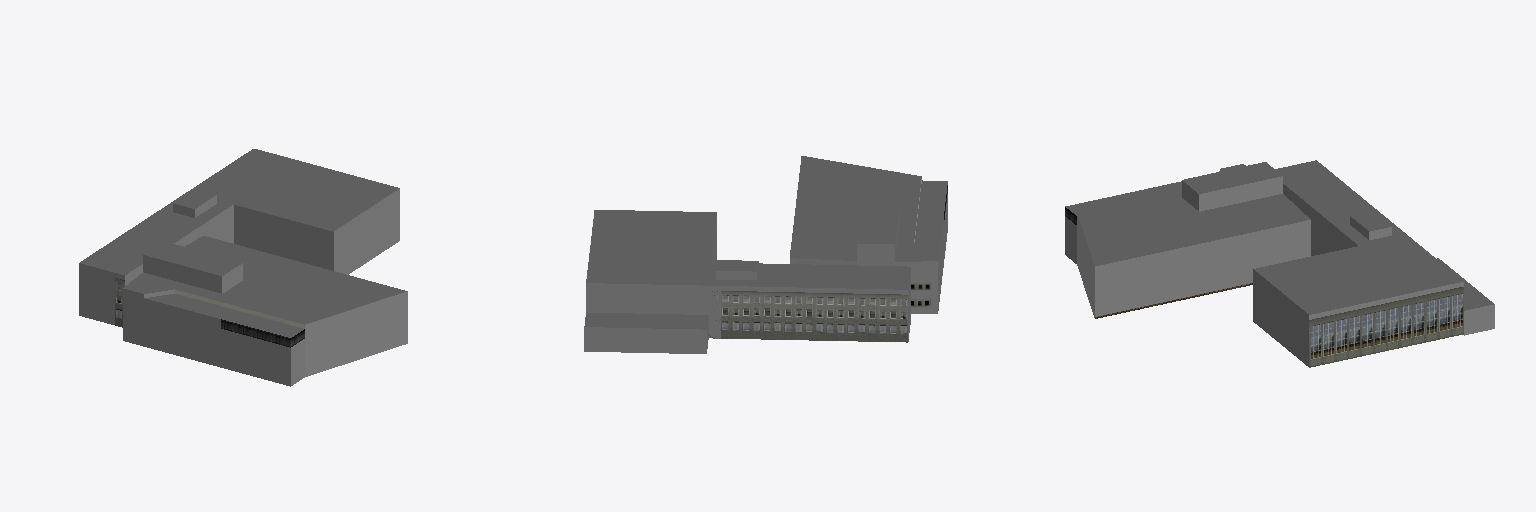
3 renders of one model, left to right at view 1: azimuth 30°, elevation 25°; view 2: azimuth 150°, elevation 25°; view 3: azimuth 270°, elevation 25°, orthographic.
Visible parts, largest first — view 1: mesh2_mesh2-geometry, mesh1_mesh1-geometry; view 2: mesh1_mesh1-geometry, mesh2_mesh2-geometry, mesh6_mesh6-geometry; view 3: mesh1_mesh1-geometry, mesh2_mesh2-geometry.
Boxes of the visible parts, box(x1,y1,x2,y2) form: mesh2_mesh2-geometry: box(123, 236, 407, 386); mesh1_mesh1-geometry: box(79, 149, 399, 327); mesh1_mesh1-geometry: box(584, 210, 910, 353); mesh2_mesh2-geometry: box(790, 156, 947, 313); mesh6_mesh6-geometry: box(709, 291, 720, 338); mesh1_mesh1-geometry: box(1253, 160, 1494, 367); mesh2_mesh2-geometry: box(1065, 162, 1310, 318).
Bounding box in the file's own units: 66.38 × 14.27 × 77.81.
Materials: 30 (8 with a texture image).